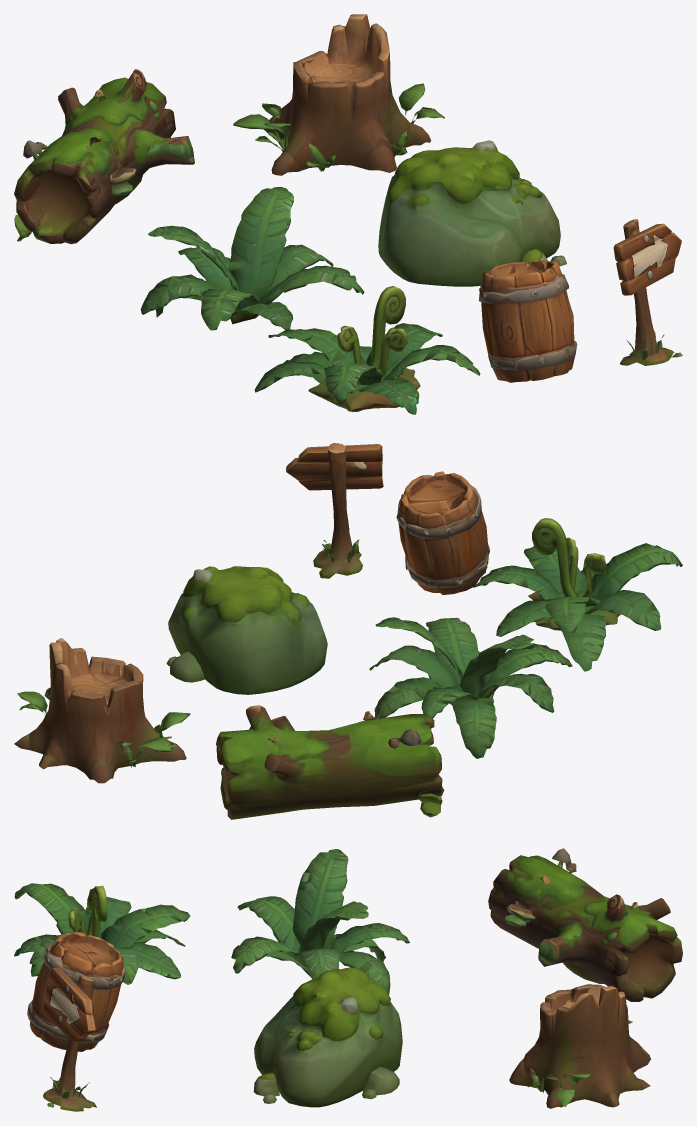
File: bosque_objetos.glb
The picture shows the model from 3 angles, top to bottom: view 1: azimuth 30°, elevation 25°; view 2: azimuth 150°, elevation 25°; view 3: azimuth 270°, elevation 25°; orthographic projection. The views are drawn at different scales.
Visible parts, largest first — view 1: tripo_node_3512fb04-17a1-408e-b661-874dd509bf22; view 2: tripo_node_3512fb04-17a1-408e-b661-874dd509bf22; view 3: tripo_node_3512fb04-17a1-408e-b661-874dd509bf22.
Boxes of the visible parts, x1,y1,x2,y2 form: tripo_node_3512fb04-17a1-408e-b661-874dd509bf22: (14,14,682,414); tripo_node_3512fb04-17a1-408e-b661-874dd509bf22: (14,443,682,819); tripo_node_3512fb04-17a1-408e-b661-874dd509bf22: (14,848,682,1111).
Size of the model in its own units: 0.6914 by 0.2091 by 0.9974.
Materials: 1 (1 with a texture image).
